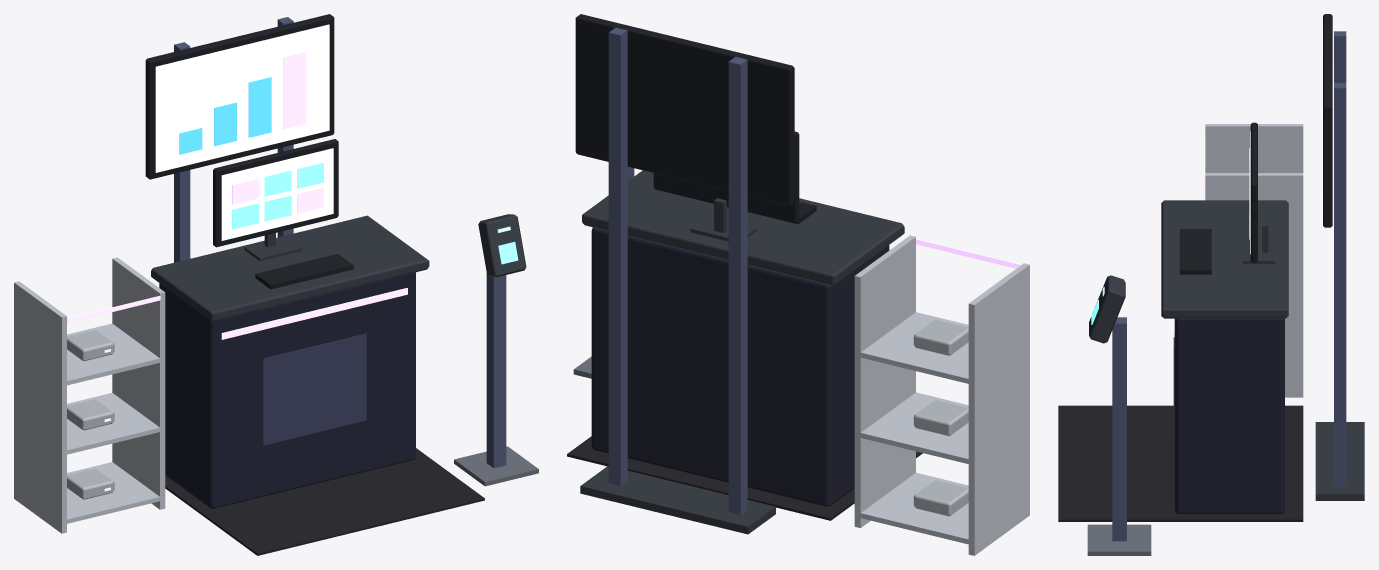
Rendered from station_special_2.glb.
The picture shows the model from 3 angles, left to right: view 1: azimuth 30°, elevation 25°; view 2: azimuth 150°, elevation 25°; view 3: azimuth 270°, elevation 25°; orthographic projection. The views are drawn at different scales.
Parts seen in each view (by area): view 1: station_special_2; view 2: station_special_2; view 3: station_special_2.
Boxes of the visible parts, box(x1,y1,x2,y2) form: station_special_2: box(14, 14, 538, 555); station_special_2: box(567, 14, 1029, 555); station_special_2: box(1058, 14, 1364, 555).
Bounding box in the file's own units: 2.03 × 1.83 × 1.25.
